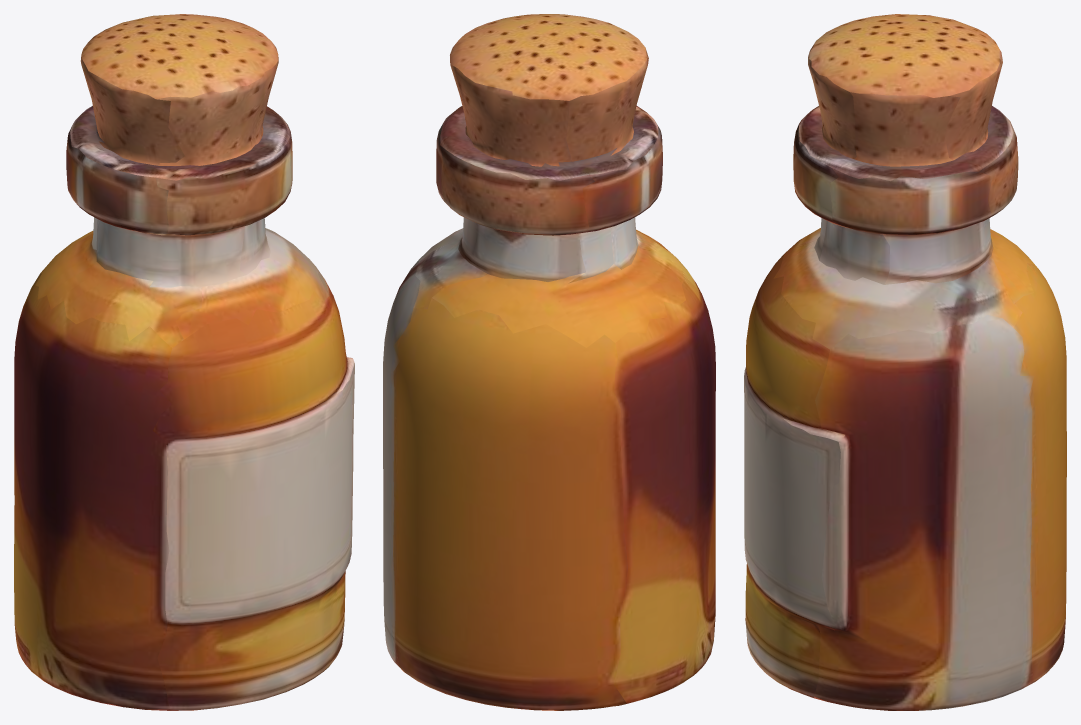
The model's file is tonic.glb.
The picture shows the model from 3 angles, left to right: view 1: azimuth 30°, elevation 25°; view 2: azimuth 150°, elevation 25°; view 3: azimuth 270°, elevation 25°; orthographic projection.
Visible parts, largest first — view 1: item_tonic; view 2: item_tonic; view 3: item_tonic.
Part boxes in pixels (x1=…): item_tonic: x1=14, y1=14, x2=354, y2=710; item_tonic: x1=383, y1=14, x2=715, y2=710; item_tonic: x1=744, y1=14, x2=1066, y2=710.
Size of the model in its own units: 0.5011 by 1 by 0.4848.
Materials: 1 (1 with a texture image).
